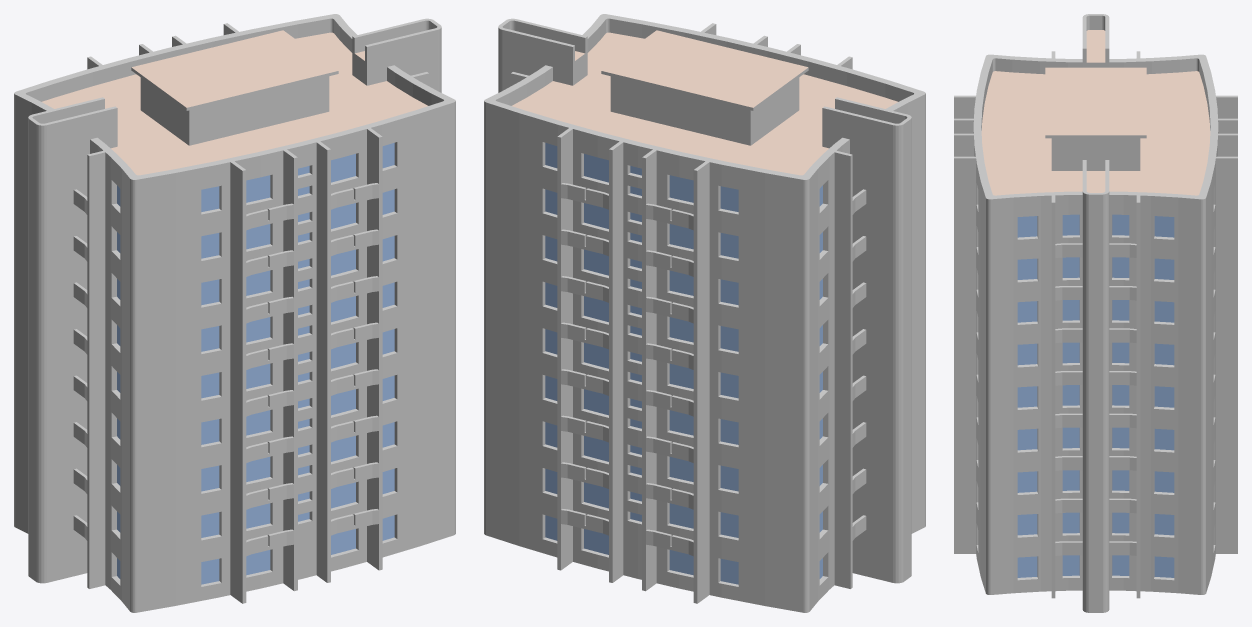
File: 9-floor-building-2.glb
The picture shows the model from 3 angles, left to right: view 1: azimuth 30°, elevation 25°; view 2: azimuth 150°, elevation 25°; view 3: azimuth 270°, elevation 25°; orthographic projection. The views are drawn at different scales.
Visible parts, largest first — view 1: wall, roof, window; view 2: wall, roof, window; view 3: wall, roof, window.
Part boxes in pixels (left/top/right/bottom): wall: left=14, top=14, right=455, bottom=612; roof: left=42, top=30, right=427, bottom=175; window: left=117, top=143, right=394, bottom=584; wall: left=484, top=14, right=925, bottom=612; roof: left=512, top=30, right=897, bottom=175; window: left=545, top=143, right=822, bottom=584; wall: left=954, top=14, right=1237, bottom=612; roof: left=981, top=30, right=1210, bottom=195; window: left=1017, top=214, right=1174, bottom=577.
Bounding box in the file's own units: 27.3 × 29.7 × 18.13.
